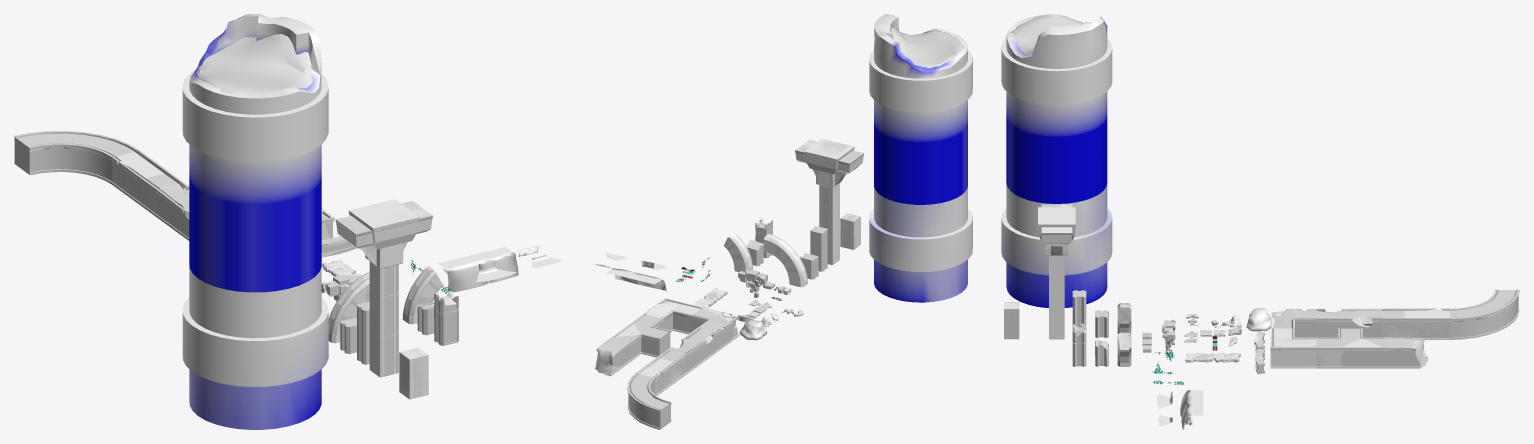
File: observatoryProps.fbx
3 views of the same model, side by side, from view 1: azimuth 30°, elevation 25°; view 2: azimuth 150°, elevation 25°; view 3: azimuth 270°, elevation 25° (orthographic). The views are drawn at different scales.
Visible parts, largest first — view 1: OB_Ruins_PlatformPillar_B_Vol, OB_Ruins_PlatformPillarSingle, OB_Ruins_Pillar_A_Col, OB_Ground_Terrain_PillarCover, OB_Modular_Curve90_A_Vol, OB_Ruins_Pillar_A_Vol, Stage_Prop_WaterFall_Top_Common_35, OB_Modular_Straight_A_Vol, OB_Modular_Straight_B_Vol, OB_Modular_Straight_A_Col, OB_Pillar_20_B, OB_Ruins_Pillar_B_Col (+8 smaller); view 2: OB_Ruins_PlatformPillar_B_Vol, OB_Ruins_PlatformPillarSingle, OB_Ruins_Pillar_A_Col, OB_Ground_Terrain_PillarCover, OB_Ruins_Pillar_A_Vol, OB_Modular_Curve90_A_Vol, OB_Modular_TWay_Vol, OB_Modular_Straight_B_Vol, OB_Modular_Corner_A_Vol, OB_Modular_Straight_C_Vol, OB_Modular_Straight_A_Vol, OB_Modular_Straight_A_Col (+13 smaller); view 3: OB_Ruins_PlatformPillar_B_Vol, OB_Ruins_PlatformPillarSingle, OB_Ruins_Pillar_A_Col, OB_Modular_Curve90_A_Vol, OB_Modular_TWay_Vol, OB_Modular_Corner_B_Col, OB_Modular_Straight_B_Vol, OB_Modular_Straight_A_Vol, OB_Modular_Straight_C_Vol, OB_Modular_Straight_A_Col, OB_Ground_Terrain_PillarCover, OB_Modular_Corner_A_Vol (+6 smaller).
Part boxes in pixels (x1,y1,x2,y2): OB_Ruins_PlatformPillar_B_Vol: [182, 14, 328, 292]; OB_Ruins_PlatformPillarSingle: [182, 265, 328, 429]; OB_Ruins_Pillar_A_Col: [336, 199, 432, 376]; OB_Ground_Terrain_PillarCover: [197, 34, 312, 97]; OB_Modular_Curve90_A_Vol: [14, 131, 138, 184]; OB_Ruins_Pillar_A_Vol: [335, 200, 432, 377]; Stage_Prop_WaterFall_Top_Common_35: [438, 247, 518, 292]; OB_Modular_Straight_A_Vol: [111, 150, 183, 216]; OB_Modular_Straight_B_Vol: [156, 182, 189, 240]; OB_Modular_Straight_A_Col: [112, 150, 181, 212]; OB_Pillar_20_B: [434, 290, 458, 345]; OB_Ruins_Pillar_B_Col: [399, 347, 428, 399]; OB_Ruins_PlatformPillar_B_Vol: [869, 14, 972, 204]; OB_Ruins_PlatformPillarSingle: [869, 186, 972, 302]; OB_Ruins_Pillar_A_Col: [795, 138, 863, 264]; OB_Ground_Terrain_PillarCover: [891, 27, 964, 68]; OB_Ruins_Pillar_A_Vol: [795, 140, 863, 265]; OB_Modular_Curve90_A_Vol: [627, 373, 671, 429]; OB_Modular_TWay_Vol: [612, 314, 670, 361]; OB_Modular_Straight_B_Vol: [668, 327, 717, 373]; OB_Modular_Corner_A_Vol: [691, 307, 739, 351]; OB_Modular_Straight_C_Vol: [595, 337, 631, 376]; OB_Modular_Straight_A_Vol: [636, 349, 687, 395]; OB_Modular_Straight_A_Col: [636, 350, 686, 393]; OB_Ruins_PlatformPillar_B_Vol: [1001, 14, 1112, 203]; OB_Ruins_PlatformPillarSingle: [1001, 183, 1112, 307]; OB_Ruins_Pillar_A_Col: [1038, 204, 1075, 338]; OB_Modular_Curve90_A_Vol: [1449, 289, 1519, 339]; OB_Modular_TWay_Vol: [1316, 328, 1384, 368]; OB_Modular_Corner_B_Col: [1270, 328, 1316, 368]; OB_Modular_Straight_B_Vol: [1316, 308, 1381, 337]; OB_Modular_Straight_A_Vol: [1382, 308, 1449, 339]; OB_Modular_Straight_C_Vol: [1384, 337, 1428, 368]; OB_Modular_Straight_A_Col: [1382, 309, 1449, 337]; OB_Ground_Terrain_PillarCover: [1010, 14, 1082, 54]; OB_Modular_Corner_A_Vol: [1270, 309, 1316, 337].
Size of the model in its own units: 171 by 141 by 230.
